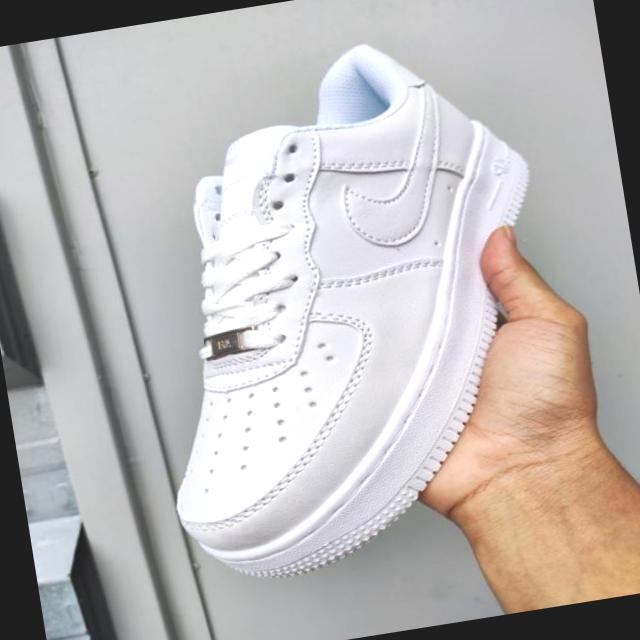nike_fake_airforce: (110, 21, 603, 590)
